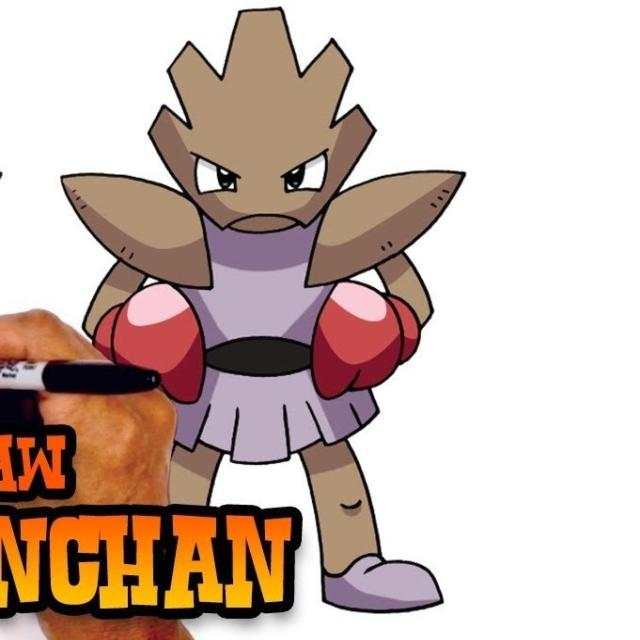Hitmonchan: (134, 68, 440, 501)
